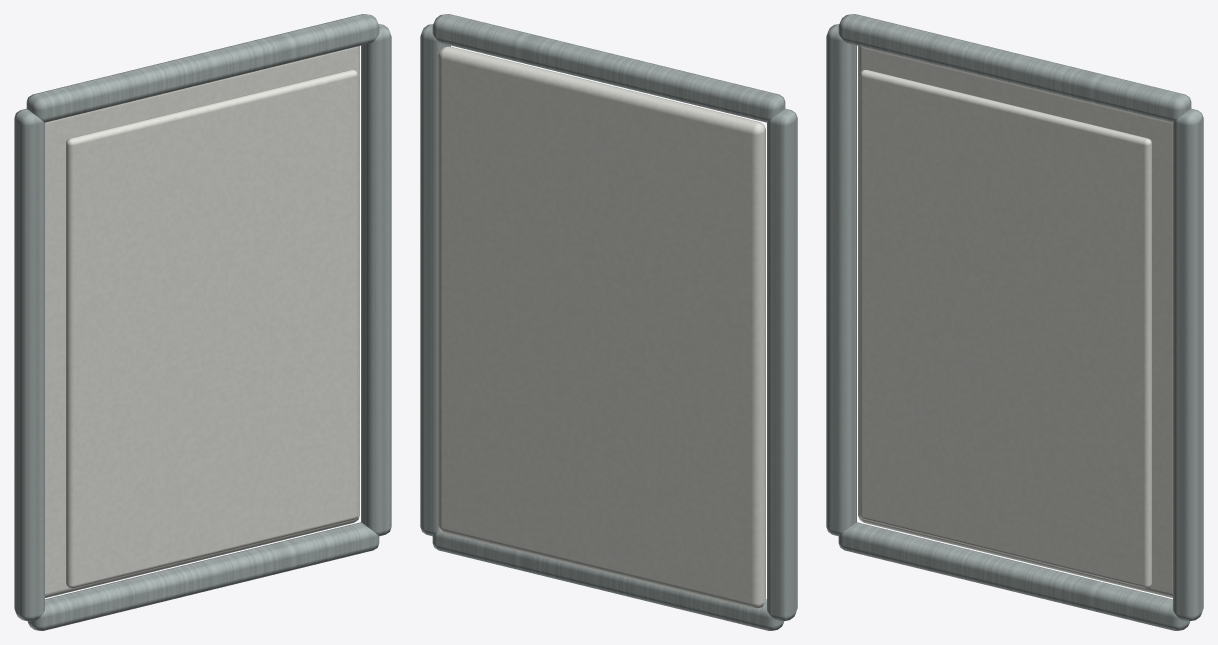
Rendered from detail-access-panel-0.glb.
3 renders of one model, left to right at view 1: azimuth 30°, elevation 25°; view 2: azimuth 150°, elevation 25°; view 3: azimuth 330°, elevation 25°, orthographic.
Parts seen in each view (by area): view 1: graphic_surface, frame_side (×2), frame_rail (×2), panel_back; view 2: panel_back, frame_side (×2), frame_rail (×2); view 3: graphic_surface, frame_side (×2), frame_rail (×2), panel_back.
Part boxes in pixels (bbox=[...]): graphic_surface: bbox=[66, 70, 357, 588]; frame_side (×2): bbox=[14, 24, 391, 621]; frame_rail (×2): bbox=[26, 14, 379, 630]; panel_back: bbox=[45, 46, 359, 597]; panel_back: bbox=[438, 46, 765, 608]; frame_side (×2): bbox=[420, 24, 797, 621]; frame_rail (×2): bbox=[432, 14, 785, 630]; graphic_surface: bbox=[860, 70, 1151, 588]; frame_side (×2): bbox=[826, 24, 1203, 621]; frame_rail (×2): bbox=[838, 14, 1191, 630]; panel_back: bbox=[858, 46, 1172, 597].
Bounding box in the file's own units: 0.535 × 0.735 × 0.0595.
Materials: 2 (2 with a texture image).
